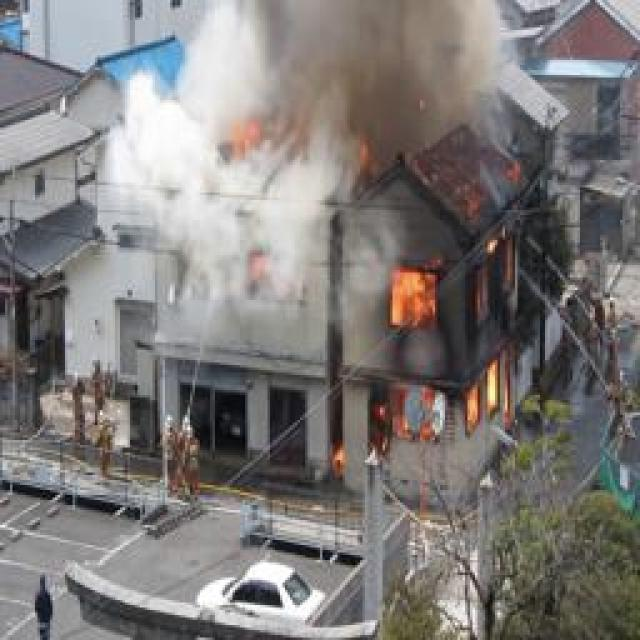Fire: (313, 224, 533, 493)
